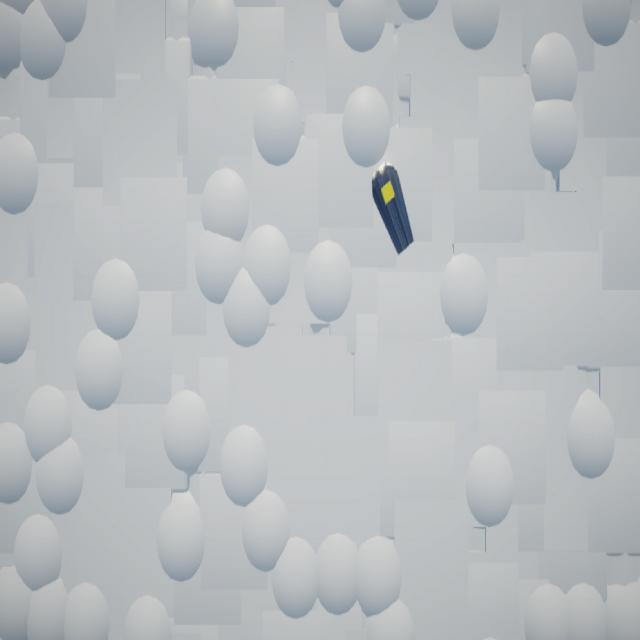handle_folk: (372, 164, 415, 257)
